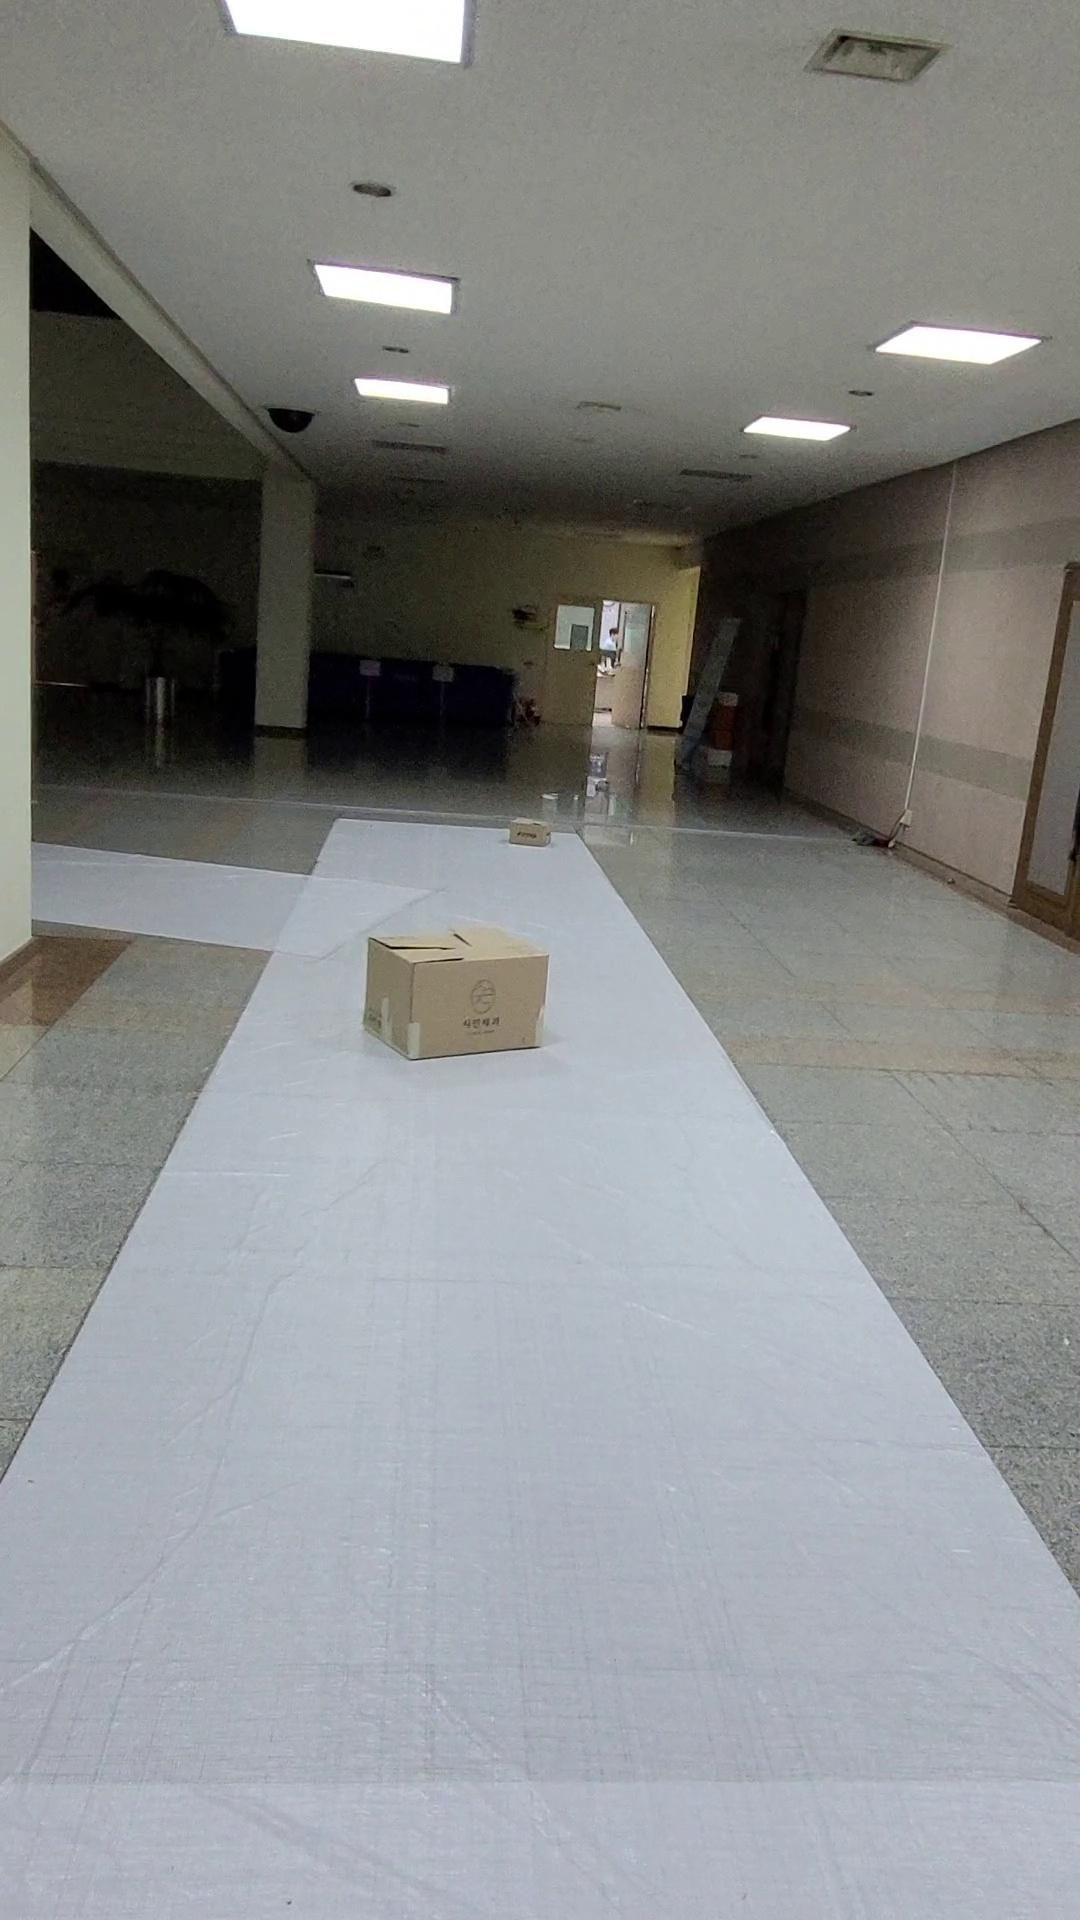Box: (351, 909, 553, 1083), (496, 810, 560, 852)
